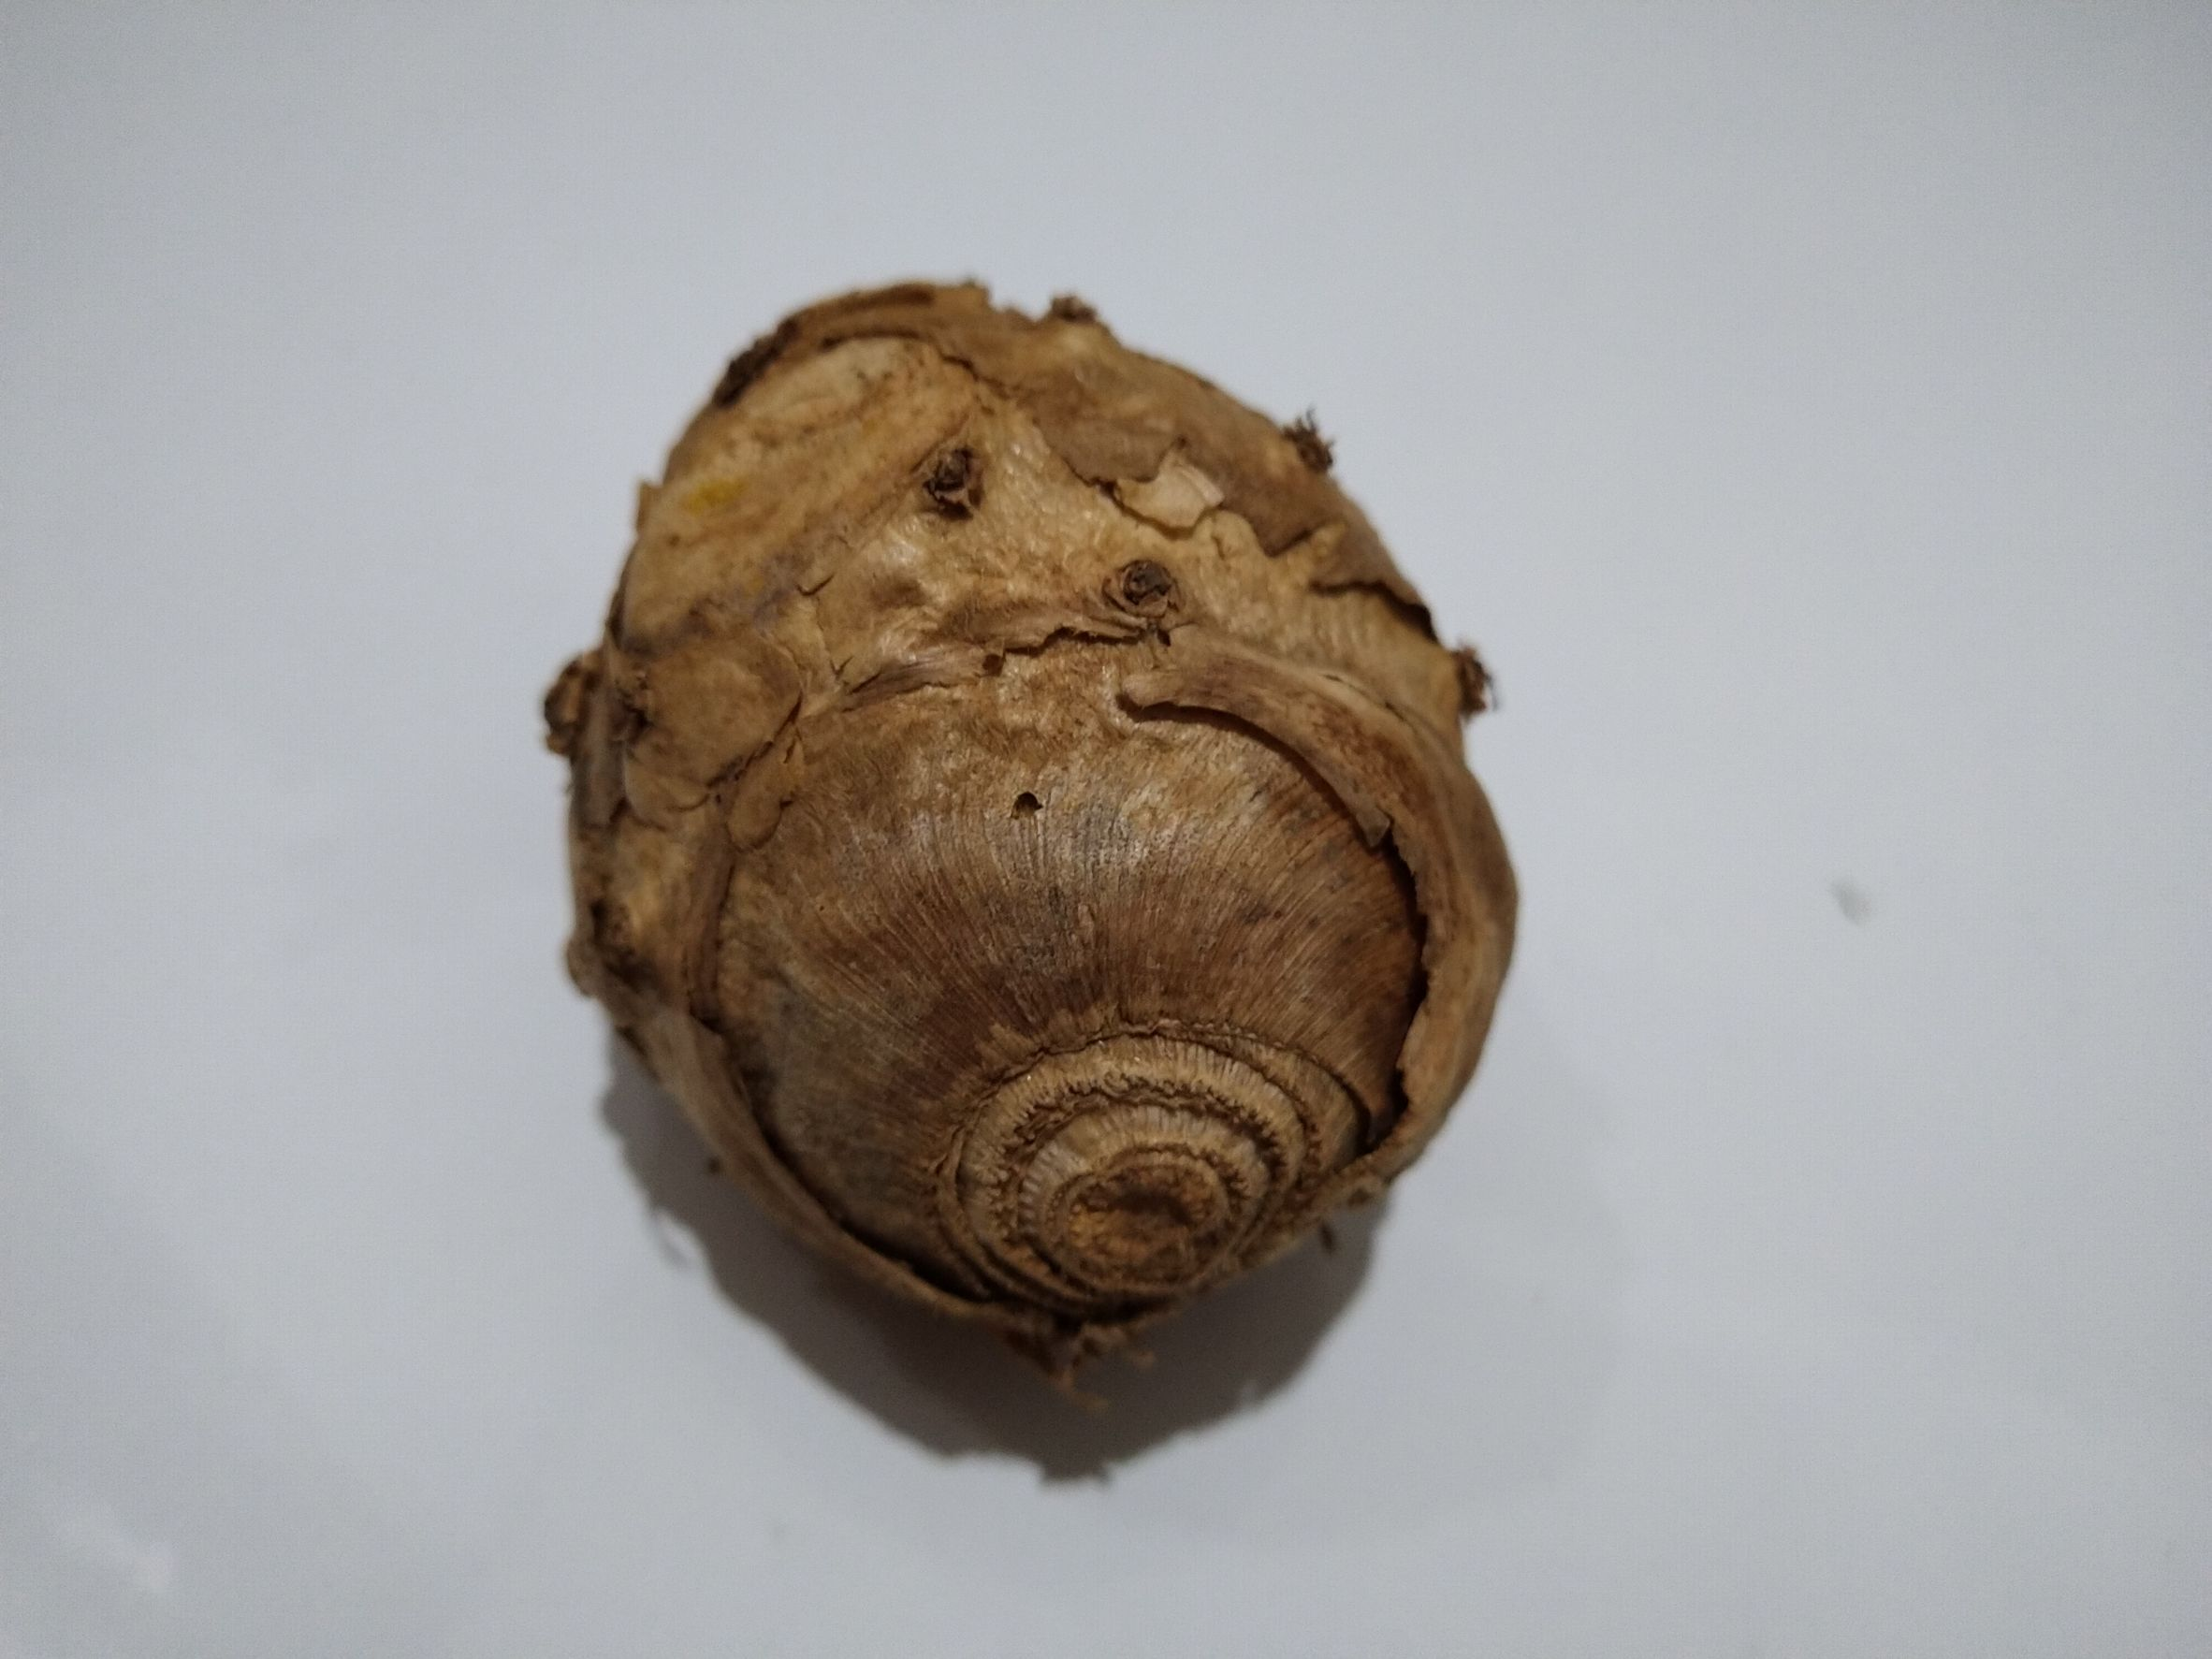Temulawak: (550, 277, 1524, 1359)
